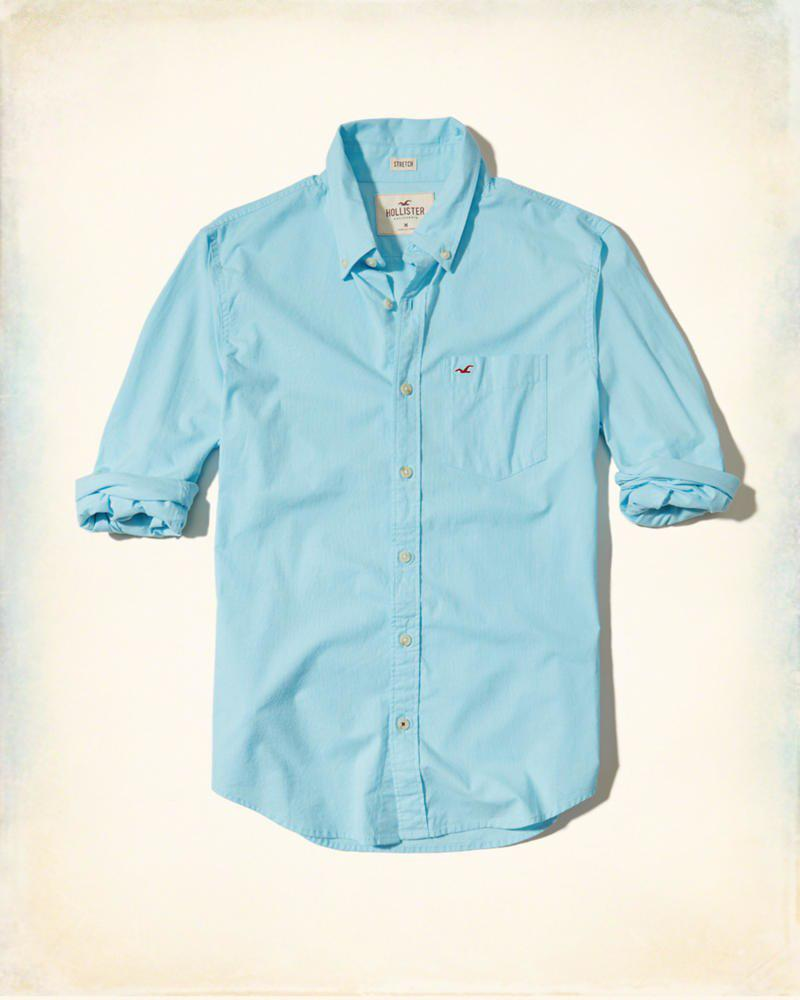teeshirt: (68, 110, 735, 856)
